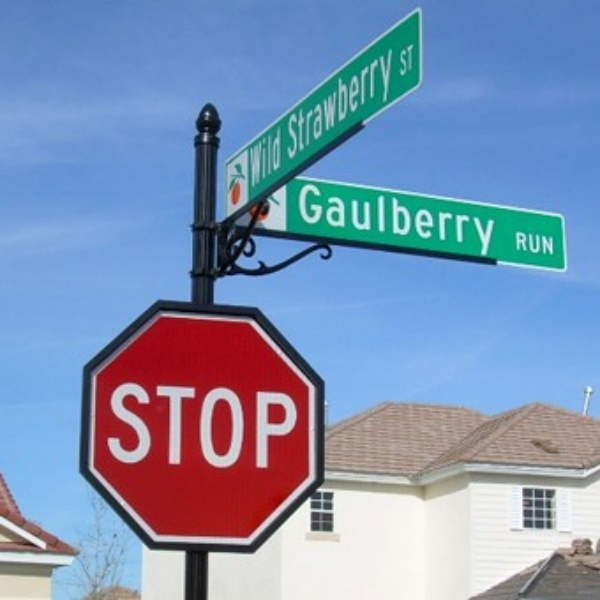text: (289, 39, 304, 159), (305, 39, 320, 159), (321, 39, 336, 159), (337, 39, 352, 159), (353, 39, 368, 159), (369, 39, 384, 159), (113, 380, 128, 470), (129, 380, 144, 470), (145, 380, 160, 470), (161, 380, 176, 470), (177, 380, 192, 470), (193, 380, 208, 470), (209, 380, 224, 470), (225, 380, 240, 470), (241, 380, 256, 470), (257, 380, 272, 470), (273, 380, 288, 470), (305, 181, 320, 256), (321, 181, 336, 256), (337, 181, 352, 256), (353, 181, 368, 256), (369, 181, 384, 256), (385, 181, 400, 256), (401, 181, 416, 256), (417, 181, 432, 256), (433, 181, 448, 256), (449, 181, 464, 256), (465, 181, 480, 256), (481, 181, 496, 256), (257, 121, 272, 191), (244, 121, 256, 191), (273, 121, 285, 191), (385, 39, 392, 159), (289, 380, 297, 470), (105, 380, 112, 470), (401, 38, 415, 80), (529, 228, 544, 256), (514, 228, 528, 256), (299, 181, 304, 256), (285, 39, 288, 159), (545, 228, 556, 256), (394, 38, 400, 80)
